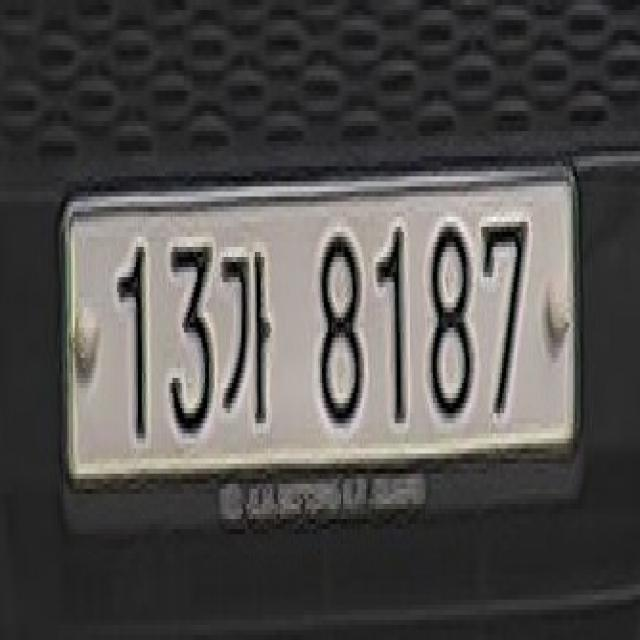1: (109, 226, 163, 468), (370, 212, 414, 438)
3: (165, 222, 216, 454)
7: (477, 206, 535, 438)
8: (422, 212, 477, 423), (316, 227, 366, 443)
ga: (218, 222, 280, 448)
license_plate: (56, 136, 590, 559)
